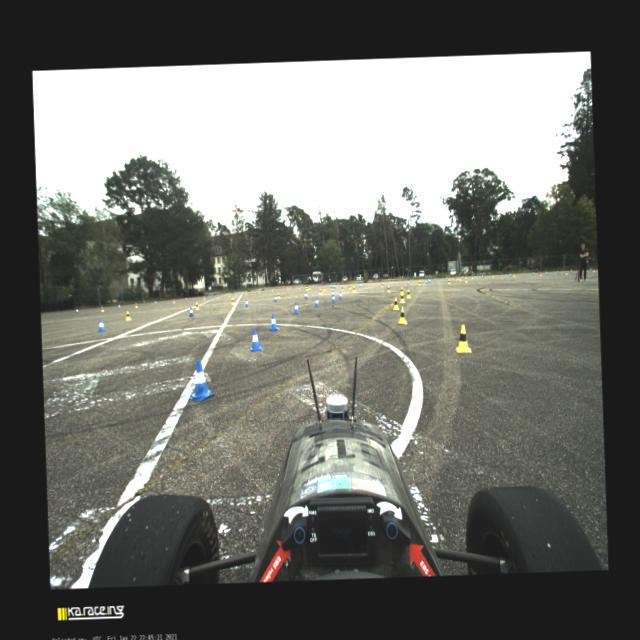blue_cone: (186, 359, 214, 401), (248, 327, 263, 352), (268, 313, 279, 330), (97, 319, 106, 331), (292, 302, 300, 314), (188, 306, 194, 316), (314, 296, 319, 306), (330, 294, 336, 302), (338, 292, 342, 300), (304, 291, 308, 299), (245, 298, 248, 306), (331, 290, 334, 296), (274, 294, 276, 302), (75, 308, 78, 313), (358, 282, 361, 287), (154, 300, 157, 304), (184, 296, 187, 300), (425, 278, 427, 284), (382, 281, 384, 286), (341, 283, 343, 288), (255, 289, 258, 292), (118, 304, 120, 308), (570, 268, 572, 272), (545, 270, 547, 274), (532, 271, 534, 275), (434, 277, 436, 281), (406, 280, 408, 284), (226, 292, 228, 296), (242, 290, 244, 294), (428, 278, 430, 282), (509, 273, 511, 276), (462, 275, 464, 278), (289, 286, 291, 289), (324, 284, 326, 287), (330, 284, 332, 287), (208, 294, 209, 298), (557, 270, 559, 272), (334, 284, 335, 288), (329, 284, 331, 286), (313, 284, 314, 288), (273, 288, 275, 290), (300, 286, 302, 288), (333, 284, 334, 288), (590, 268, 592, 270), (482, 274, 482, 278), (446, 276, 446, 279)
yellow_cone: (454, 324, 472, 354), (398, 306, 407, 324), (392, 297, 399, 310), (124, 311, 131, 320), (400, 292, 406, 302), (194, 302, 199, 310), (399, 286, 404, 294), (406, 289, 410, 298), (100, 306, 104, 312), (134, 302, 138, 308), (231, 297, 234, 305), (276, 292, 280, 298), (318, 288, 322, 294), (387, 285, 390, 292), (352, 286, 355, 292), (464, 276, 467, 282), (447, 278, 450, 284), (418, 280, 421, 286), (348, 284, 352, 288), (458, 276, 461, 281), (202, 295, 205, 299), (322, 286, 325, 290), (244, 290, 247, 294), (172, 298, 174, 303), (381, 282, 383, 287), (492, 273, 494, 278), (592, 268, 594, 272), (565, 270, 567, 274), (540, 272, 542, 276), (512, 272, 514, 276), (471, 274, 473, 278), (456, 276, 458, 280), (298, 286, 300, 290), (286, 286, 288, 290), (228, 292, 230, 296), (305, 286, 307, 290), (306, 286, 308, 290), (308, 286, 310, 290), (272, 288, 274, 291), (258, 289, 260, 292)
